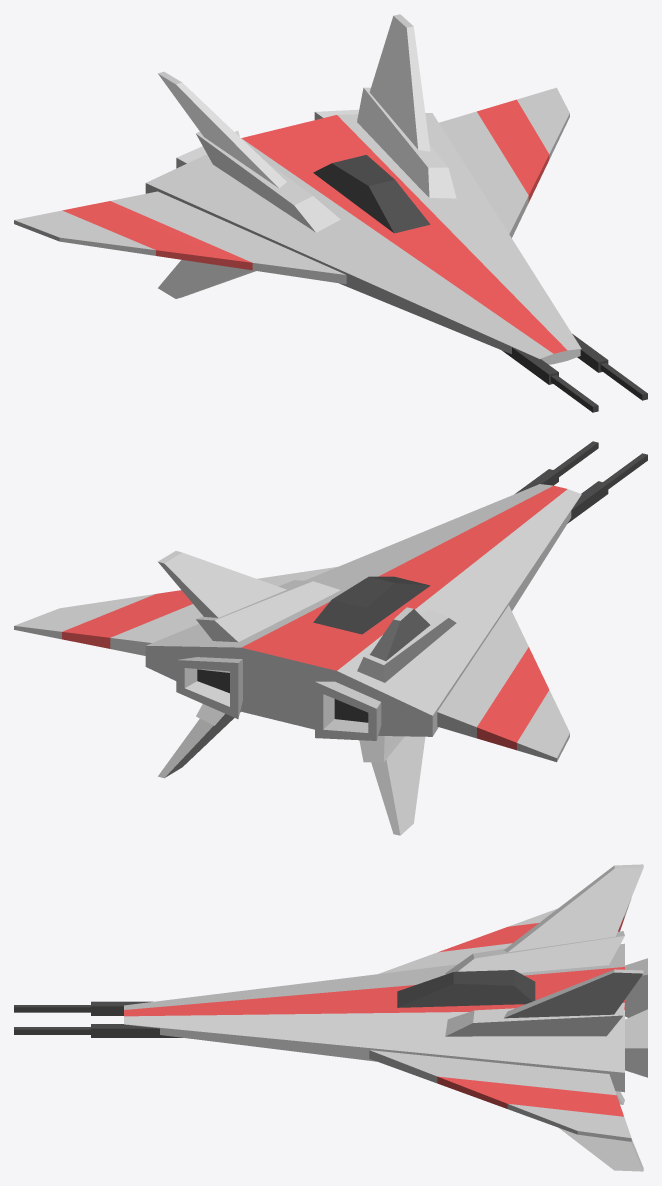
The model's file is Spaceship1.glb.
The picture shows the model from 3 angles, top to bottom: view 1: azimuth 30°, elevation 25°; view 2: azimuth 150°, elevation 25°; view 3: azimuth 270°, elevation 25°; orthographic projection. The views are drawn at different scales.
Parts seen in each view (by area): view 1: Lo_poly_Spaceship_01_by_Liz_Reddington; view 2: Lo_poly_Spaceship_01_by_Liz_Reddington; view 3: Lo_poly_Spaceship_01_by_Liz_Reddington.
Boxes of the visible parts, bbox=[...] form: Lo_poly_Spaceship_01_by_Liz_Reddington: bbox=[14, 14, 647, 412]; Lo_poly_Spaceship_01_by_Liz_Reddington: bbox=[14, 441, 647, 835]; Lo_poly_Spaceship_01_by_Liz_Reddington: bbox=[14, 864, 647, 1171].
Size of the model in its own units: 677 by 256 by 743.
